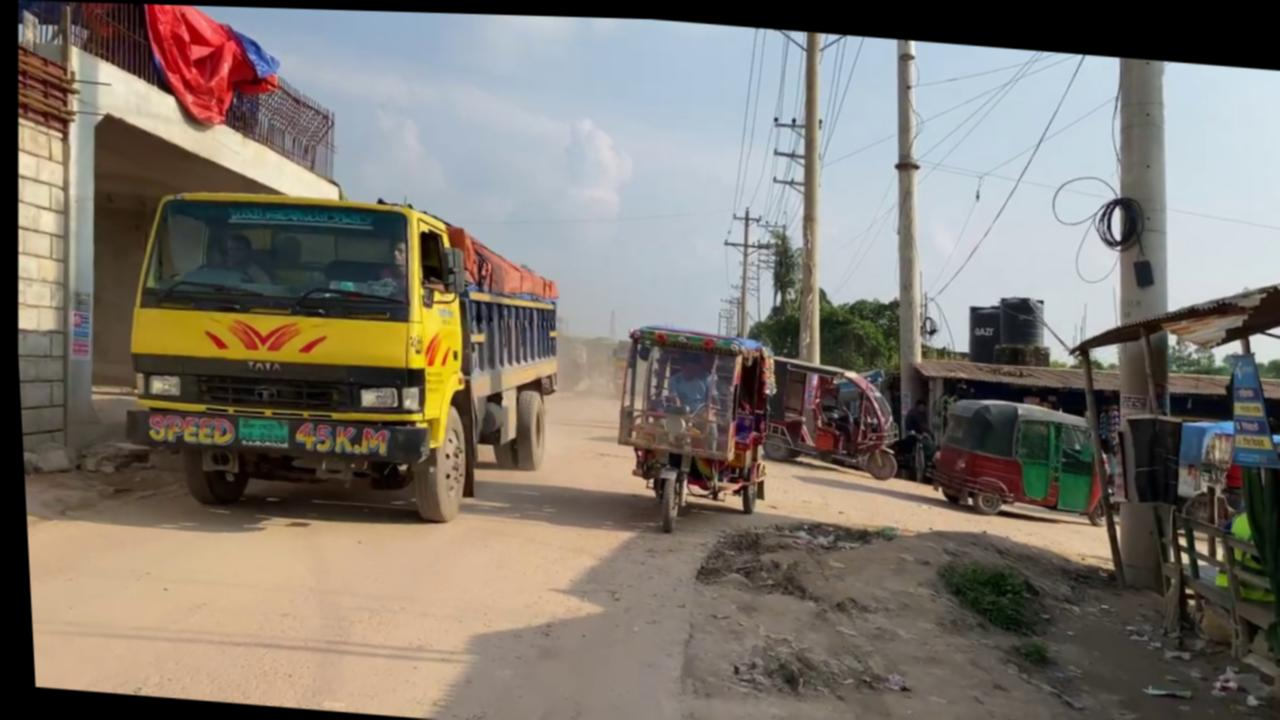Muddy road: (14, 346, 1280, 720)
Pole: (1096, 50, 1184, 411), (873, 33, 940, 437), (779, 26, 834, 359)
Tree: (107, 174, 570, 531), (602, 318, 778, 537)
